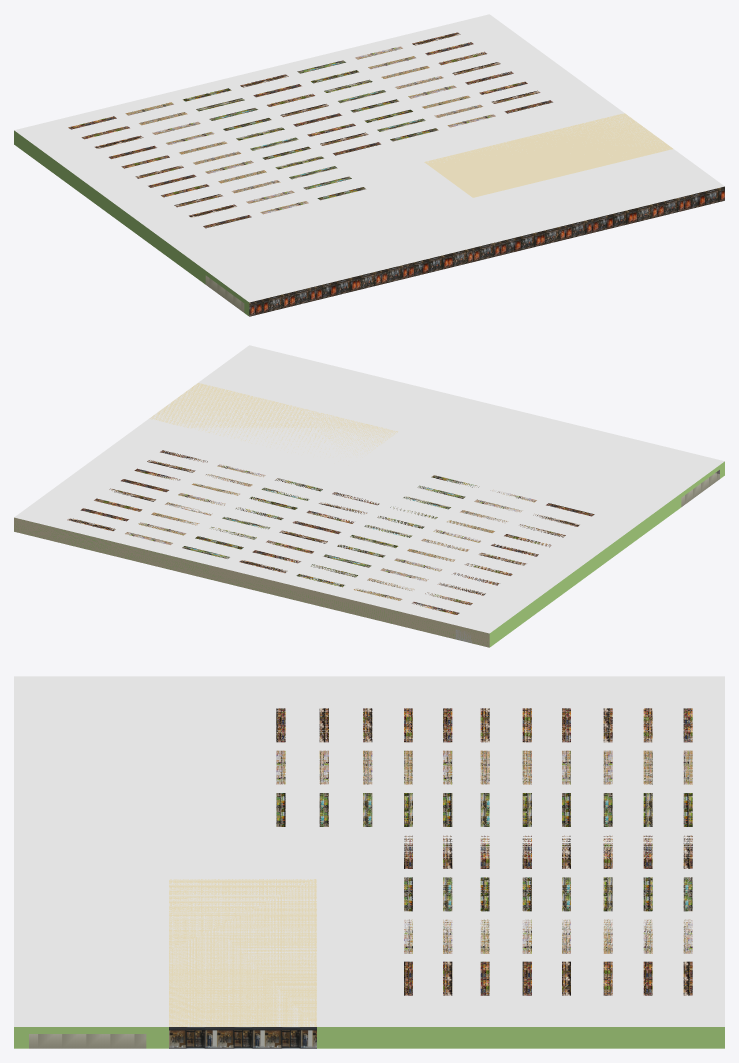
Rendered from Magasin.dae.
3 renders of one model, top to bottom at view 1: azimuth 30°, elevation 25°; view 2: azimuth 150°, elevation 25°; view 3: azimuth 270°, elevation 25°, orthographic. The views are drawn at different scales.
Parts seen in each view (by area): view 1: group_9, group_0 (×7); view 2: group_9, group_0 (×3); view 3: group_9, group_0 (×6).
Boxes of the visible parts, <box> form: group_9: <box>14,14,724,302</box>; group_0 (×7): <box>14,113,672,316</box>; group_9: <box>14,345,724,633</box>; group_0 (×3): <box>14,383,724,647</box>; group_9: <box>14,676,724,1026</box>; group_0 (×6): <box>14,879,724,1048</box>.
Size of the model in its own units: 4134 by 3543 by 119.
